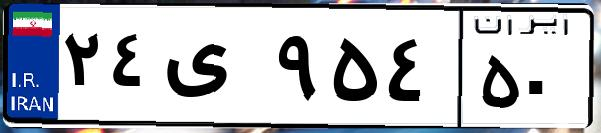0: (525, 38, 570, 115)
2: (57, 26, 110, 100)
4: (385, 28, 445, 110), (110, 28, 158, 98)
5: (330, 28, 385, 110), (475, 38, 525, 113)
9: (270, 28, 330, 110)
ی: (158, 20, 270, 120)
